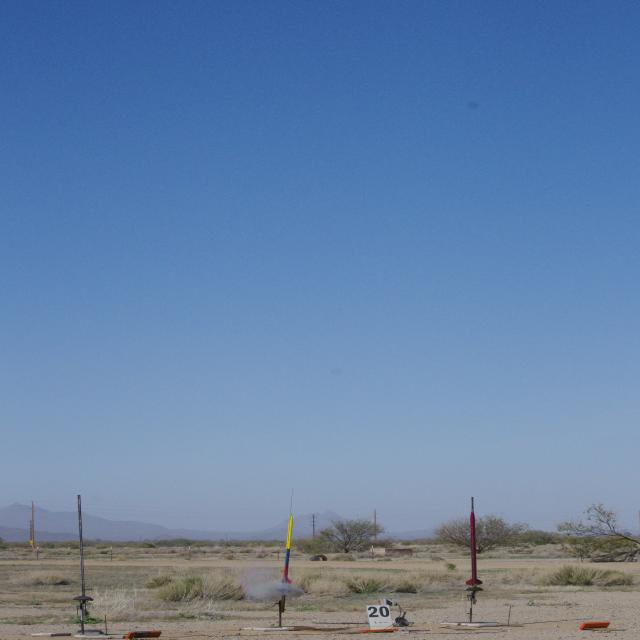Rocket: (465, 509, 483, 587), (281, 514, 293, 584)
